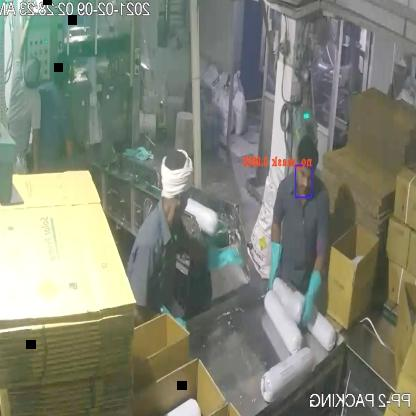glove: (196, 239, 243, 284), (296, 265, 326, 330), (259, 238, 287, 302)
no_glove: (12, 8, 36, 67), (26, 123, 42, 180)
